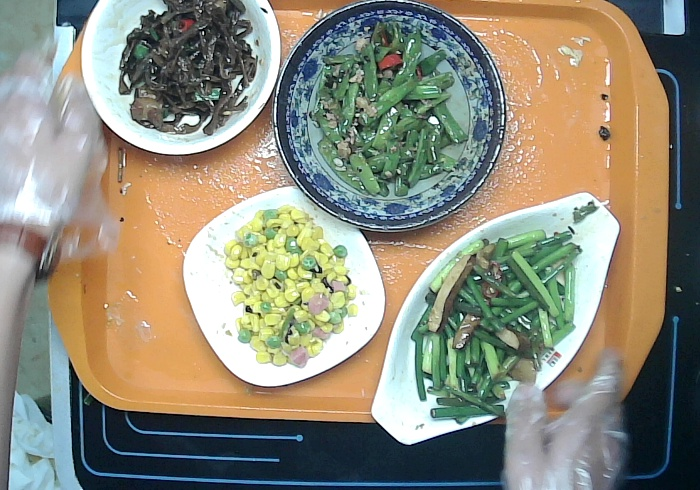ZNLD-Qing_Hua_Wan: (272, 5, 512, 235)
ZNLD-Si_Fang_Wan: (182, 186, 389, 393)
ZNLD-Tang_Wan: (77, 1, 286, 156)
ZNLD-Yu_Pan: (372, 193, 619, 447)
